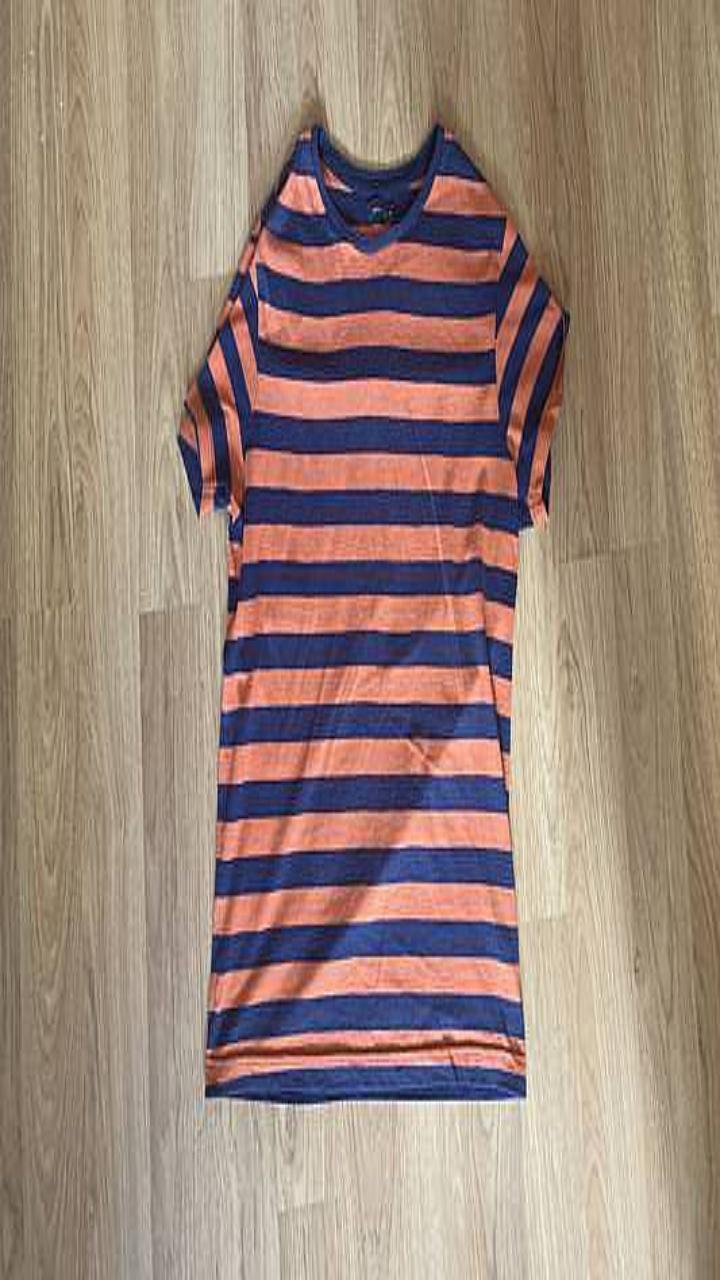T-Shirt: (178, 123, 568, 1101)
